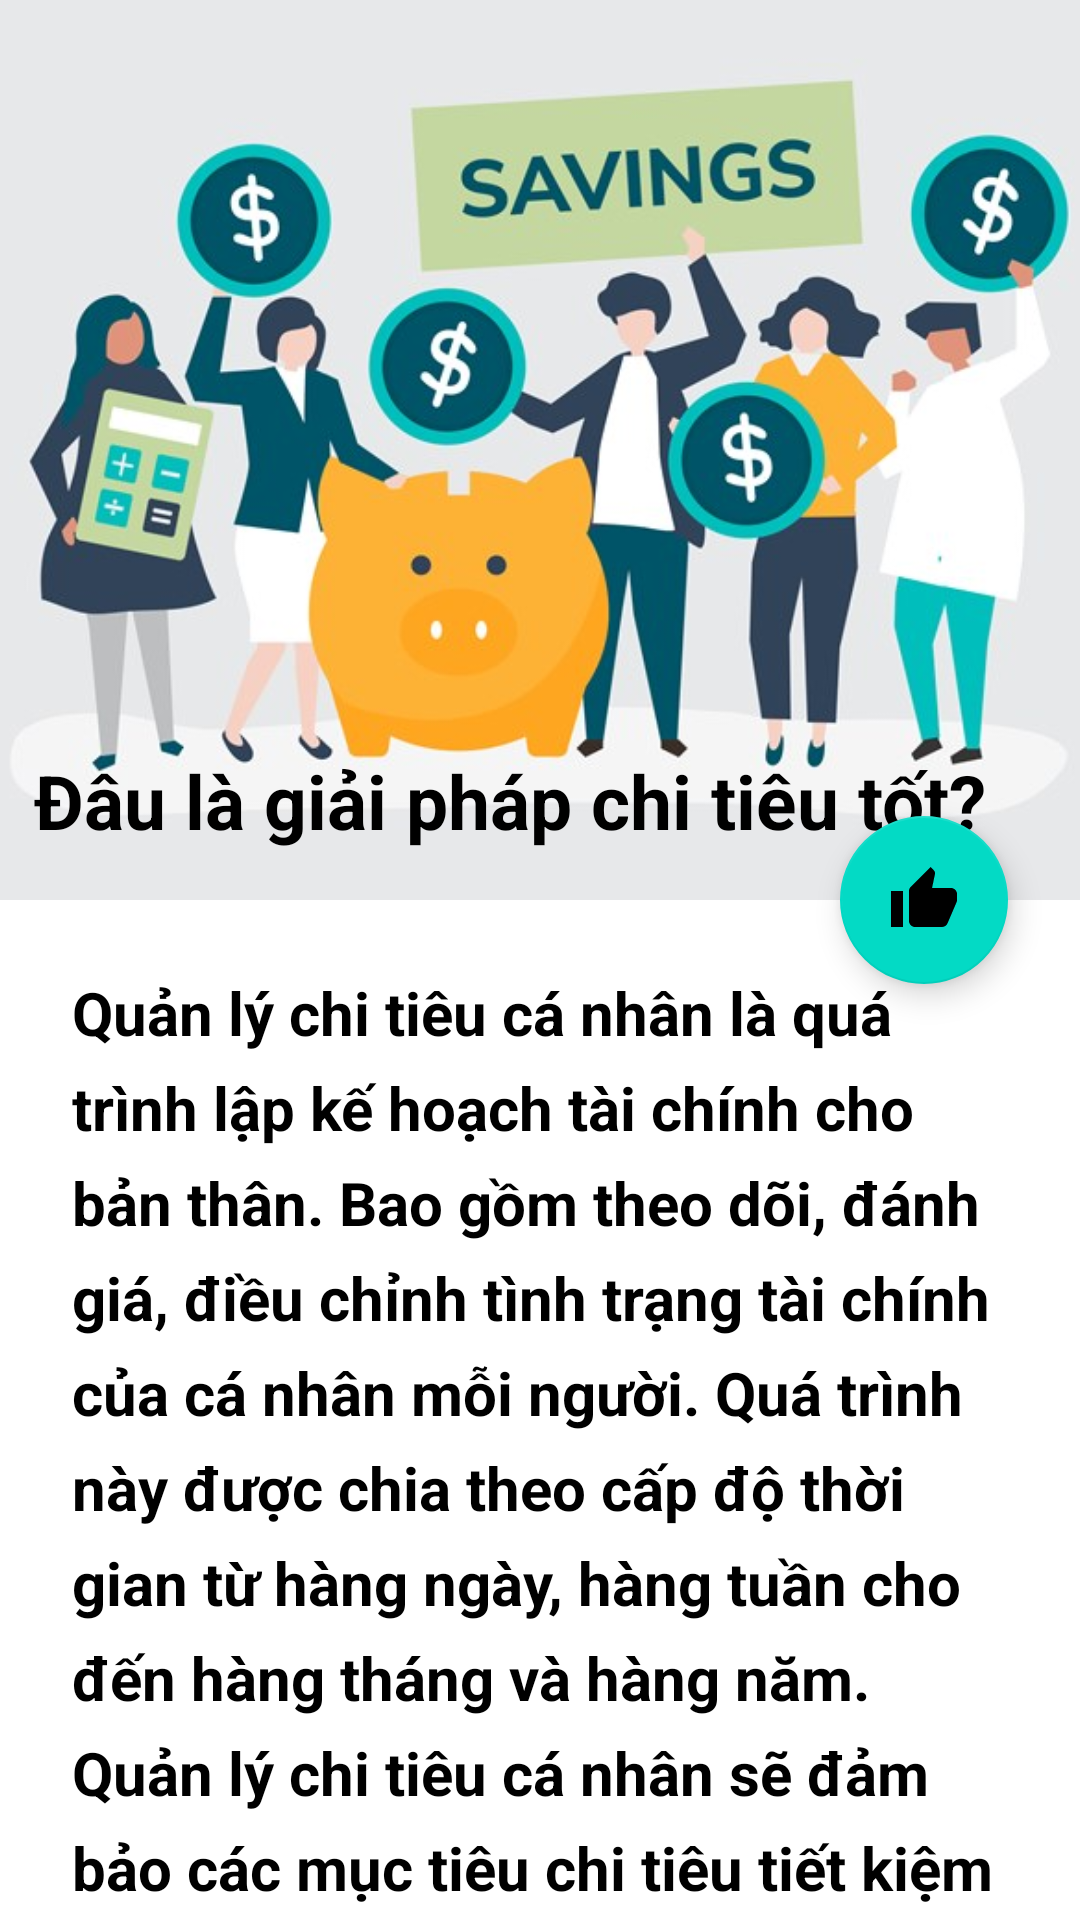

Where to tap for icons on this 1080w x 1920h app screen, as (x=x, y=y):
thumb: (x=924, y=900)
